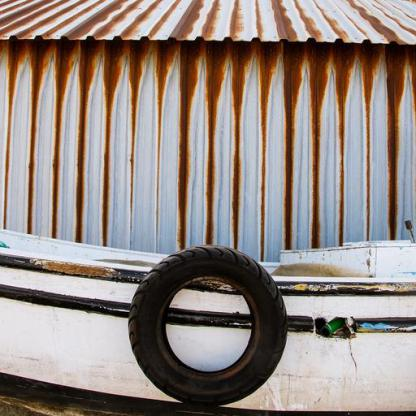Tire: (127, 244, 289, 408)
